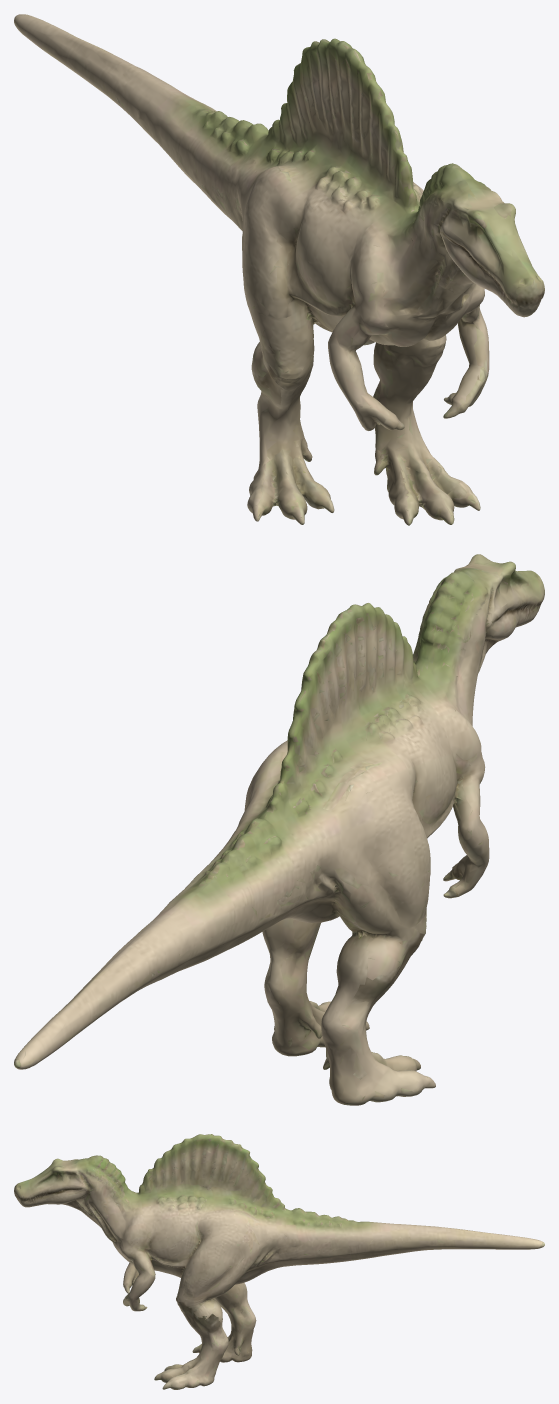
Rendered from spino.glb.
3 views of the same model, one above another, from view 1: azimuth 30°, elevation 25°; view 2: azimuth 150°, elevation 25°; view 3: azimuth 270°, elevation 25° (orthographic). The views are drawn at different scales.
Visible parts, largest first — view 1: Mesh_0; view 2: Mesh_0; view 3: Mesh_0.
Part boxes in pixels (box(x1,y1,x2,y2)): Mesh_0: box(14, 14, 544, 525); Mesh_0: box(14, 554, 544, 1105); Mesh_0: box(14, 1134, 544, 1389).
Bounding box in the file's own units: 0.3876 × 0.9246 × 1.9.
1 material, 1 textured.
